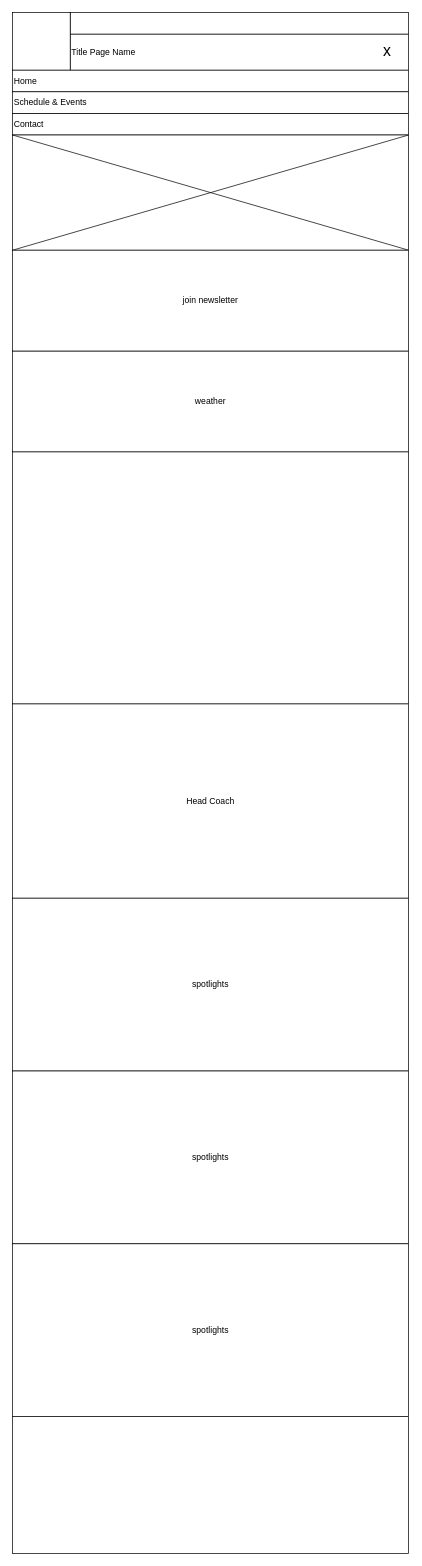
Image size: 422x1566. Some labels were removed from this diagram. The shapes that lost their labels are listed below. From the top down, each one's centre as x and y in pixels, then its label:
the point at 41,41: Logo
the point at 210,577: upcoming events
the point at 210,1484: Footer
